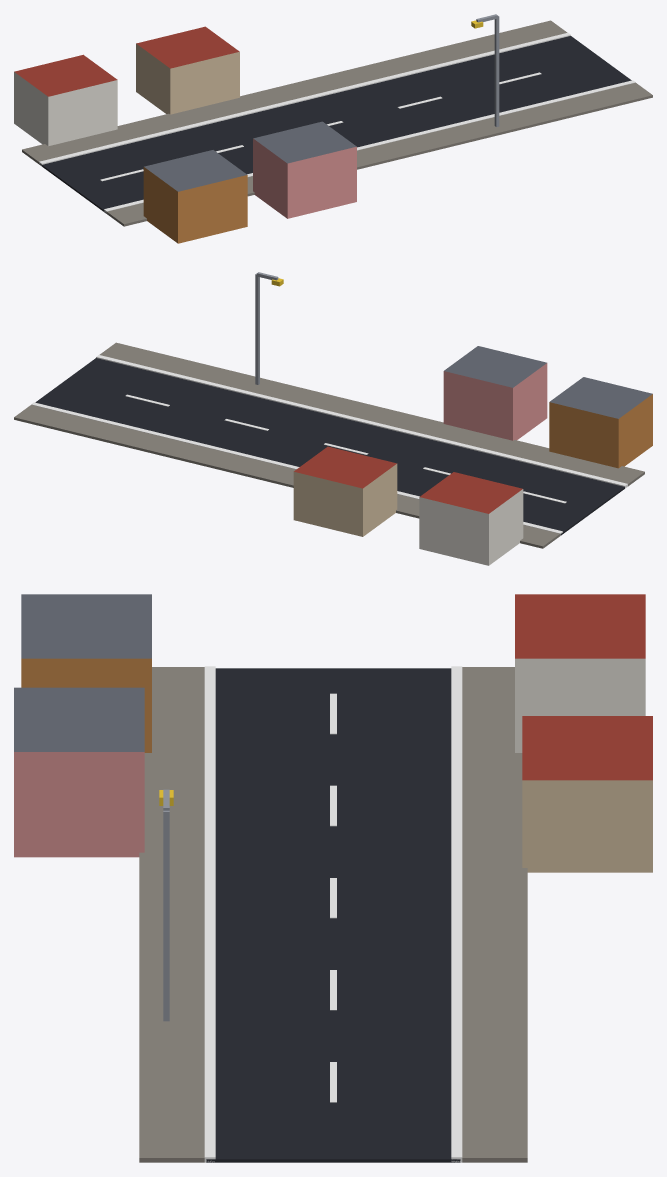
The model's file is calle_lateral.obj.
The picture shows the model from 3 angles, top to bottom: view 1: azimuth 30°, elevation 25°; view 2: azimuth 150°, elevation 25°; view 3: azimuth 270°, elevation 25°; orthographic projection. The views are drawn at different scales.
Visible parts, largest first — view 1: calle_lateral; view 2: calle_lateral; view 3: calle_lateral.
Part boxes in pixels (x1=…): calle_lateral: x1=14, y1=14, x2=652, y2=243; calle_lateral: x1=14, y1=272, x2=652, y2=565; calle_lateral: x1=14, y1=594, x2=652, y2=1162.
Bounding box in the file's own units: 32 × 6.58 × 17.6.
